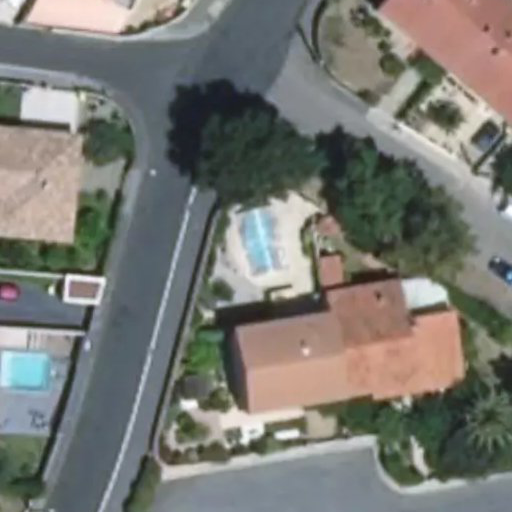pool: (239, 209, 285, 273), (2, 352, 51, 392)
